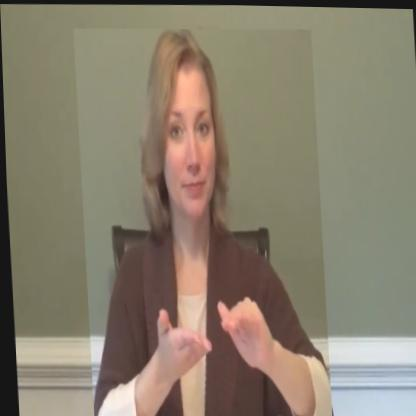ExcuseMe: (72, 23, 328, 416)
